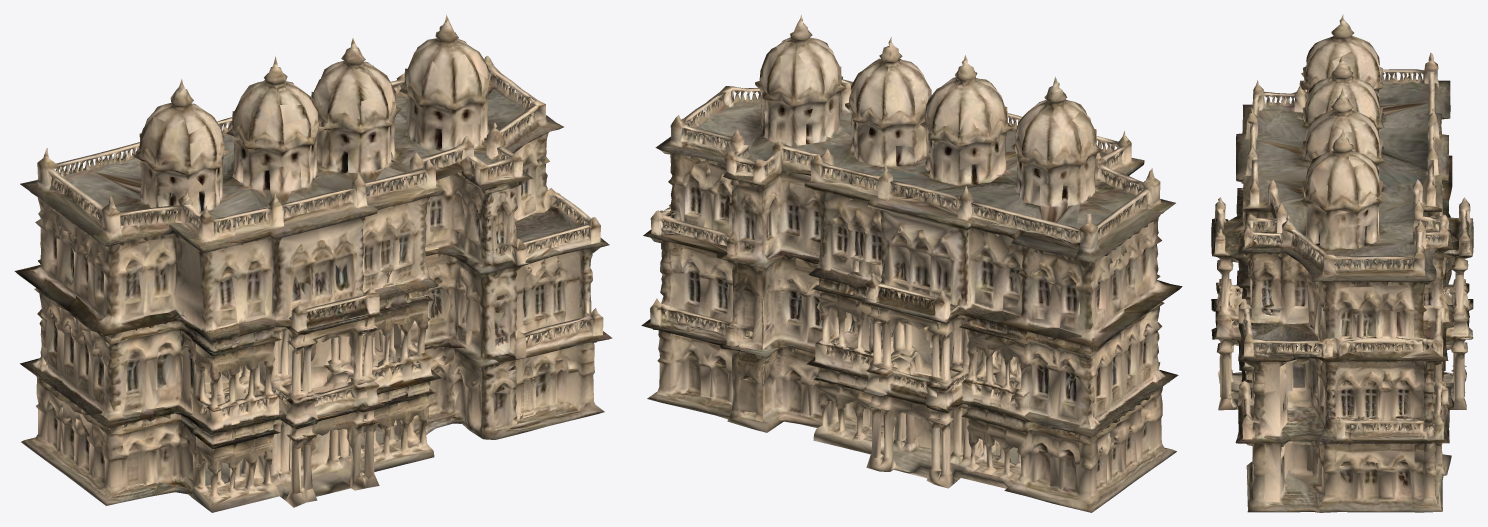
The model's file is Palace_of_the_Four_Do_2.glb.
3 renders of one model, left to right at view 1: azimuth 30°, elevation 25°; view 2: azimuth 150°, elevation 25°; view 3: azimuth 270°, elevation 25°, orthographic. The views are drawn at different scales.
Visible parts, largest first — view 1: Palace_of_the_Four_Do_2; view 2: Palace_of_the_Four_Do_2; view 3: Palace_of_the_Four_Do_2.
Part boxes in pixels (x1=…): Palace_of_the_Four_Do_2: x1=14, y1=14, x2=612, y2=512; Palace_of_the_Four_Do_2: x1=641, y1=14, x2=1182, y2=512; Palace_of_the_Four_Do_2: x1=1211, y1=14, x2=1473, y2=512.
Size of the model in its own units: 1.9 by 1.48 by 1.02.
1 material, 1 textured.
